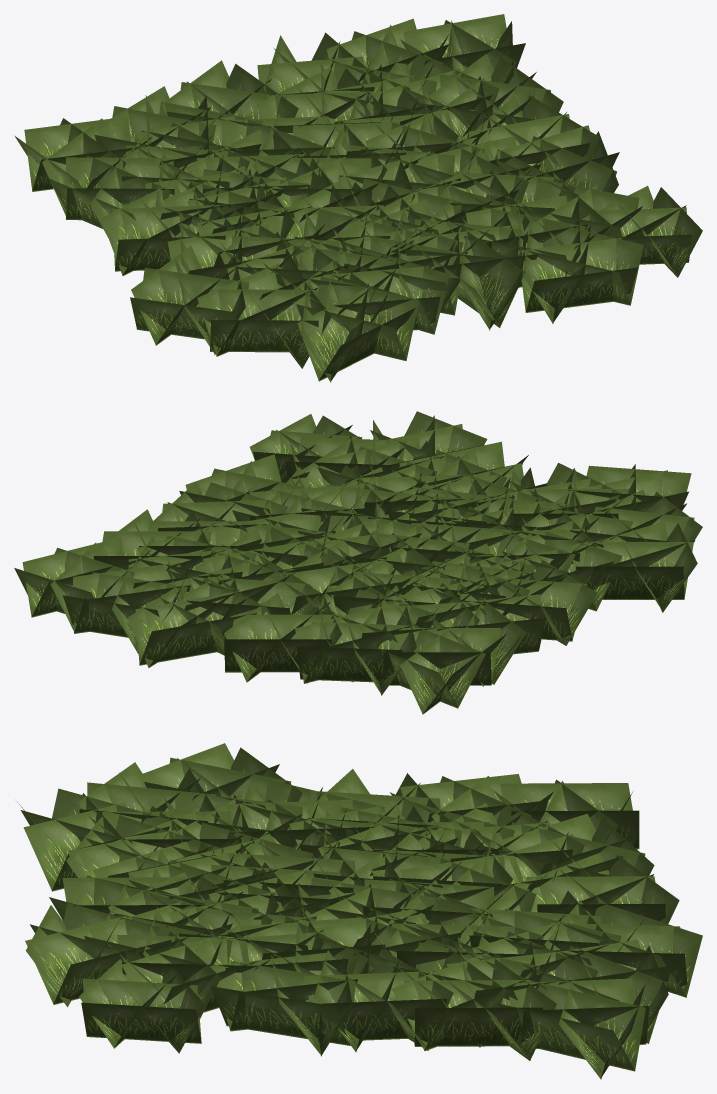
The model's file is grass_large_2_tall.dae.
3 renders of one model, top to bottom at view 1: azimuth 30°, elevation 25°; view 2: azimuth 150°, elevation 25°; view 3: azimuth 270°, elevation 25°, orthographic. The views are drawn at different scales.
Visible parts, largest first — view 1: Plane021; view 2: Plane021; view 3: Plane021.
Boxes of the visible parts, x1=… form: Plane021: x1=14, y1=14, x2=702, y2=382; Plane021: x1=14, y1=411, x2=702, y2=714; Plane021: x1=17, y1=743, x2=702, y2=1079.
Bounding box in the file's own units: 55.35 × 55.97 × 4.59.
